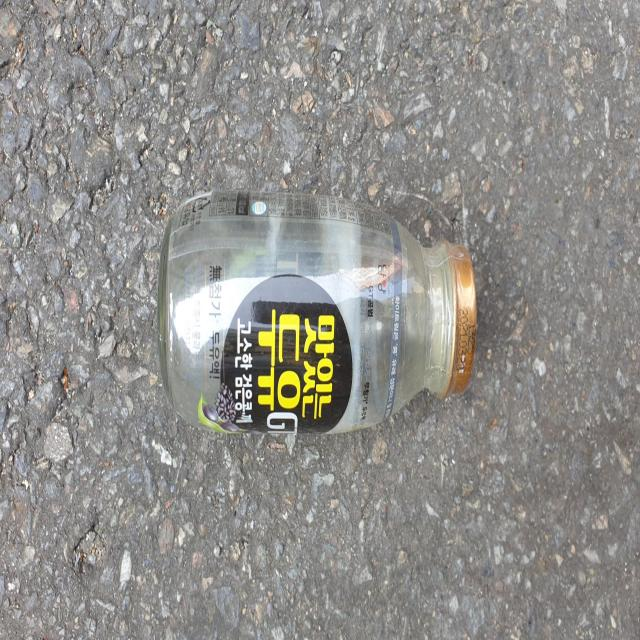glass: (158, 189, 476, 434)
